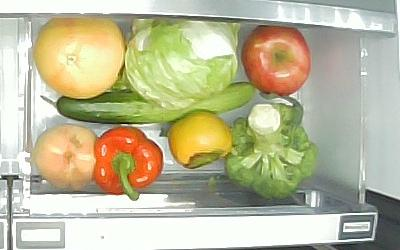apple: (243, 25, 313, 96)
broccoli: (228, 104, 319, 201)
cucumber: (39, 81, 254, 124)
grapefruit: (33, 18, 125, 100)
lettuce: (125, 18, 239, 111)
paprika: (95, 127, 163, 202)
peach: (31, 126, 94, 190)
persimmon: (167, 111, 234, 170)
